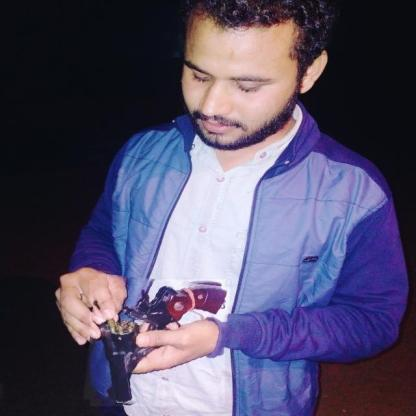handgun: (87, 276, 228, 410)
